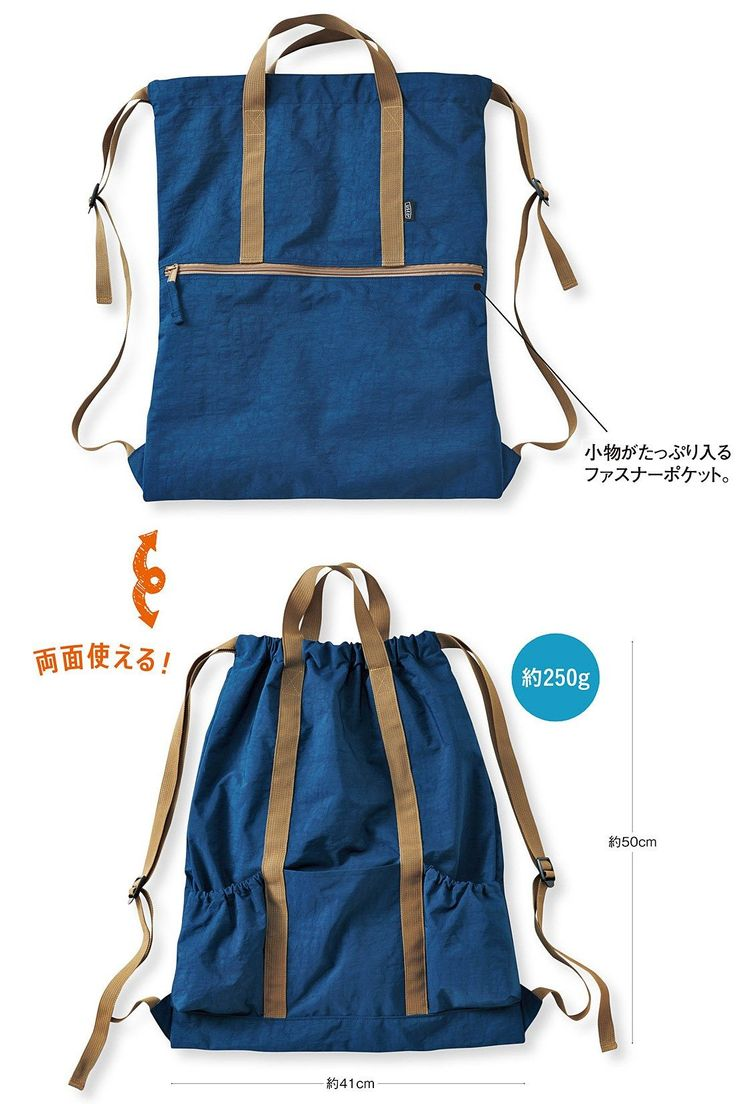nylon: (70, 14, 618, 1095)
